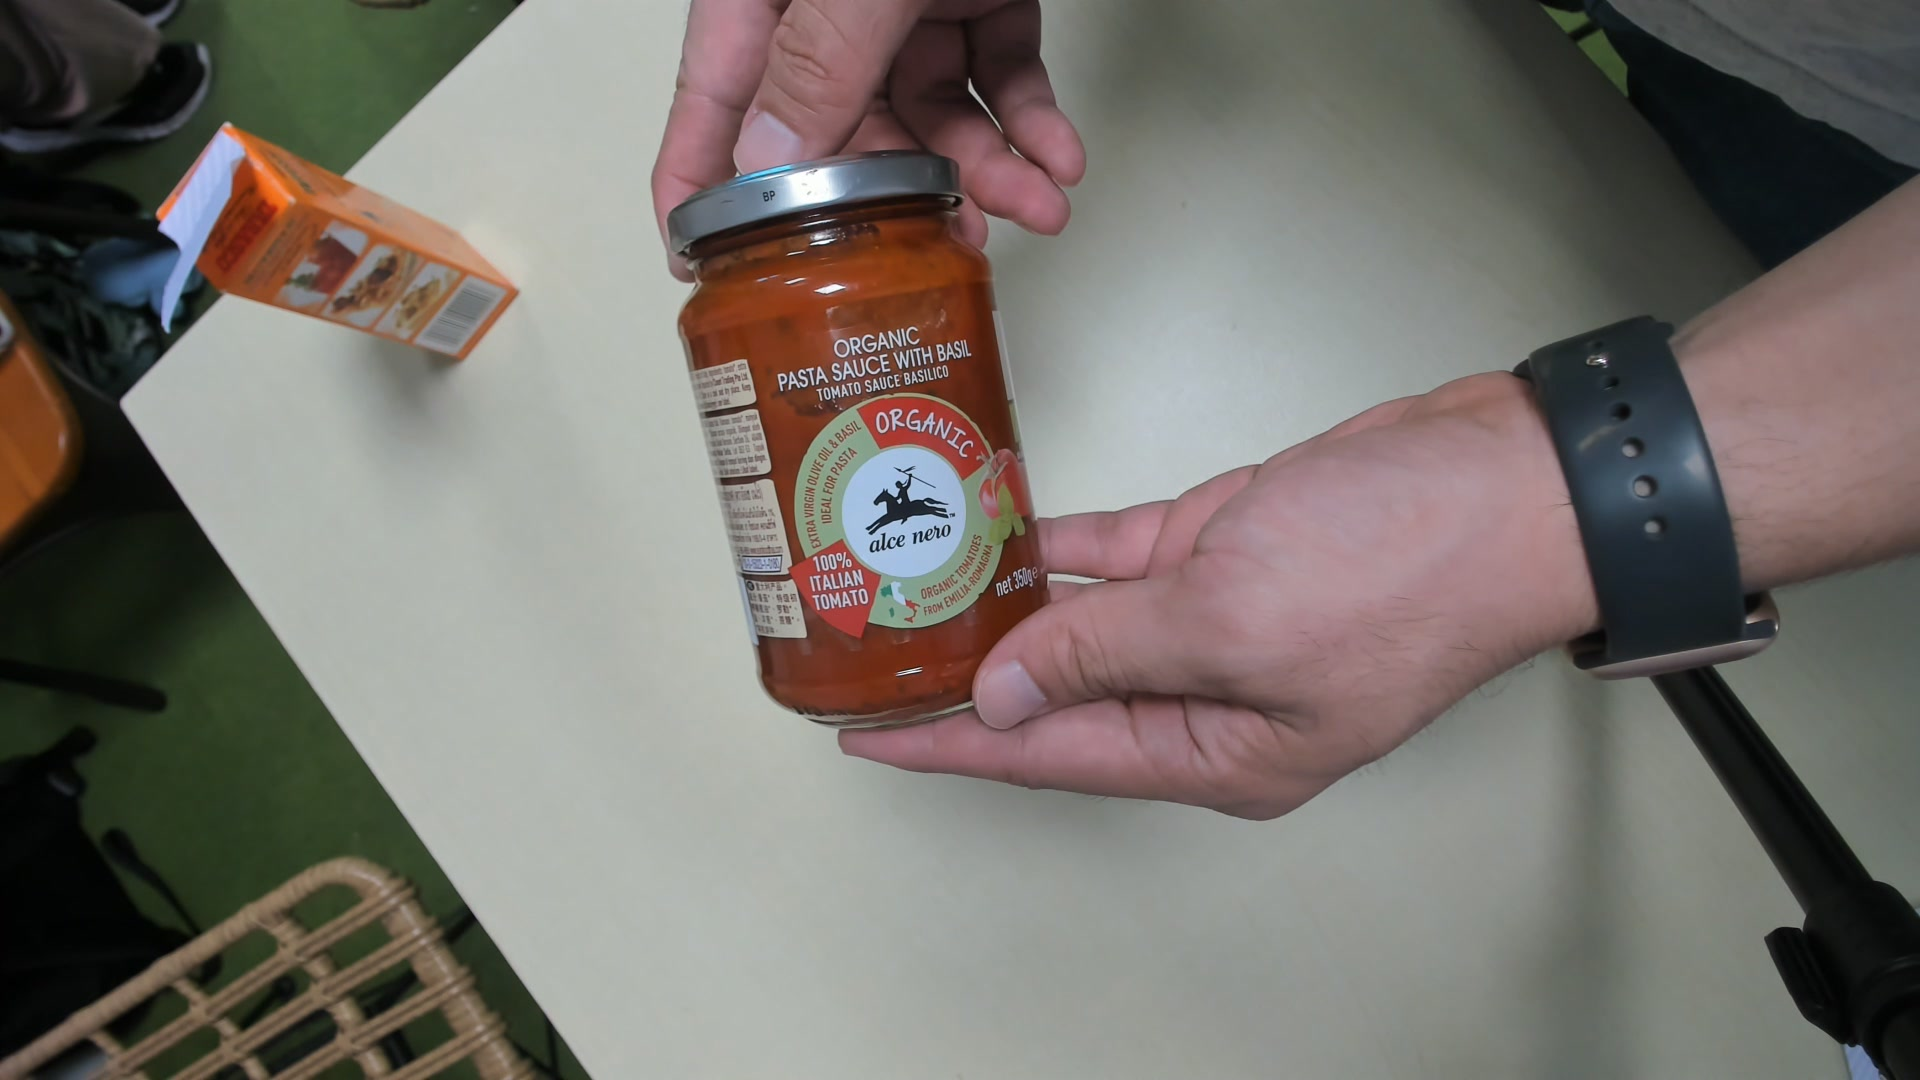PastaSauce_300-399g_NonHalal_NonHealthy: (669, 152, 1055, 735)
